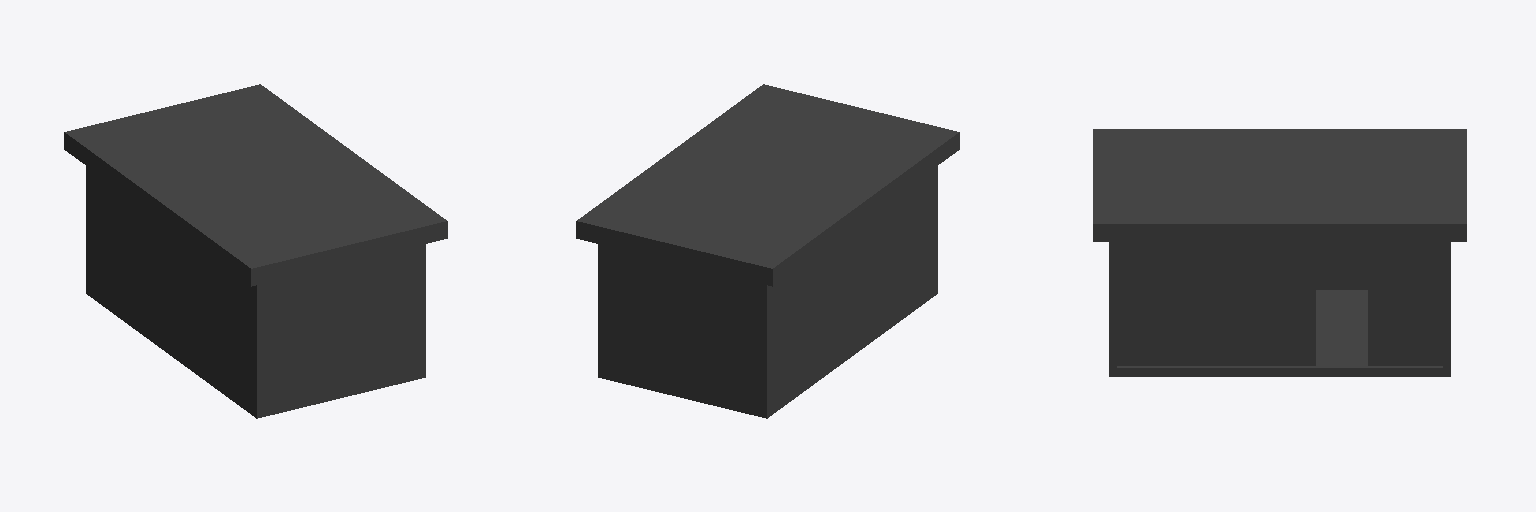
The model's file is house.obj.
The picture shows the model from 3 angles: view 1: azimuth 30°, elevation 25°; view 2: azimuth 150°, elevation 25°; view 3: azimuth 270°, elevation 25°; orthographic projection.
Visible parts, largest first — view 1: Plane, Cube.001; view 2: Plane, Cube.001; view 3: Plane, Cube.001.
Boxes of the visible parts, x1,y1,x2,y2 form: Plane: [86, 166, 425, 418]; Cube.001: [64, 84, 447, 286]; Plane: [598, 166, 937, 418]; Cube.001: [576, 84, 959, 286]; Plane: [1109, 242, 1450, 376]; Cube.001: [1093, 129, 1466, 241].
Size of the model in its own units: 23.16 by 17.92 by 38.21.